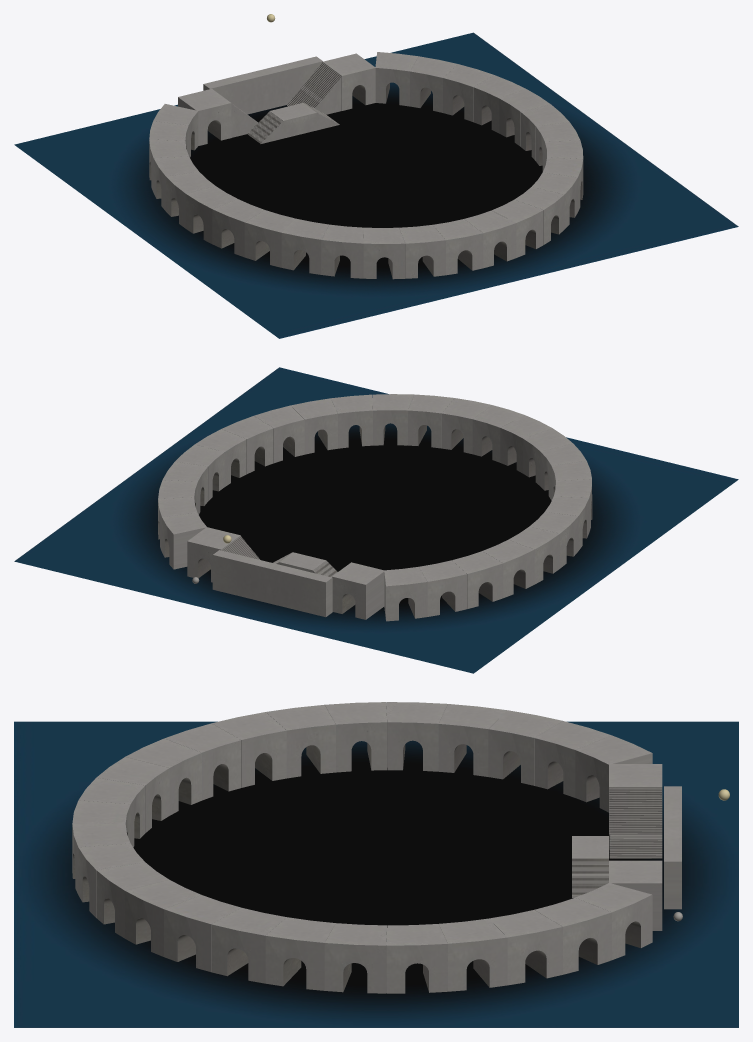
File: auclaire33.gltf
The picture shows the model from 3 angles, top to bottom: view 1: azimuth 30°, elevation 25°; view 2: azimuth 150°, elevation 25°; view 3: azimuth 270°, elevation 25°; orthographic projection. The views are drawn at different scales.
Visible parts, largest first — view 1: nowy; view 2: nowy; view 3: nowy.
Boxes of the visible parts, bbox=[...] form: nowy: bbox=[14, 14, 738, 338]; nowy: bbox=[14, 367, 738, 673]; nowy: bbox=[14, 702, 738, 1027].
Bounding box in the file's own units: 297 × 46.19 × 297.
1 material, 1 textured.
